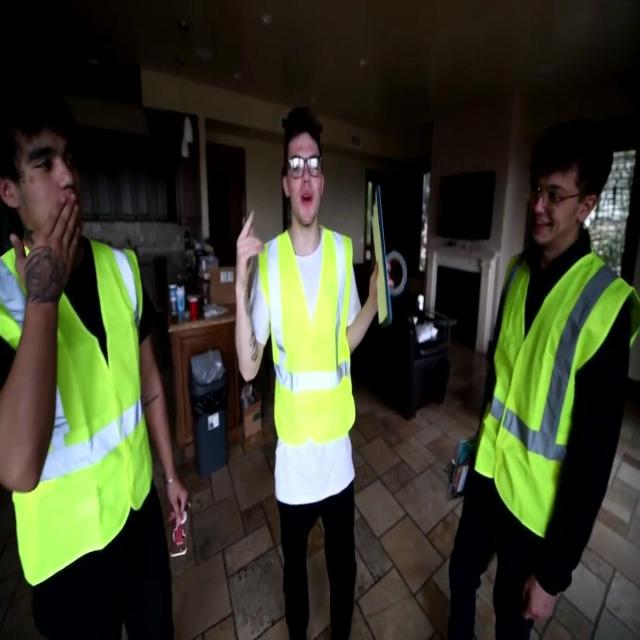Vest: (0, 233, 153, 588), (469, 249, 639, 539), (257, 226, 357, 442)
